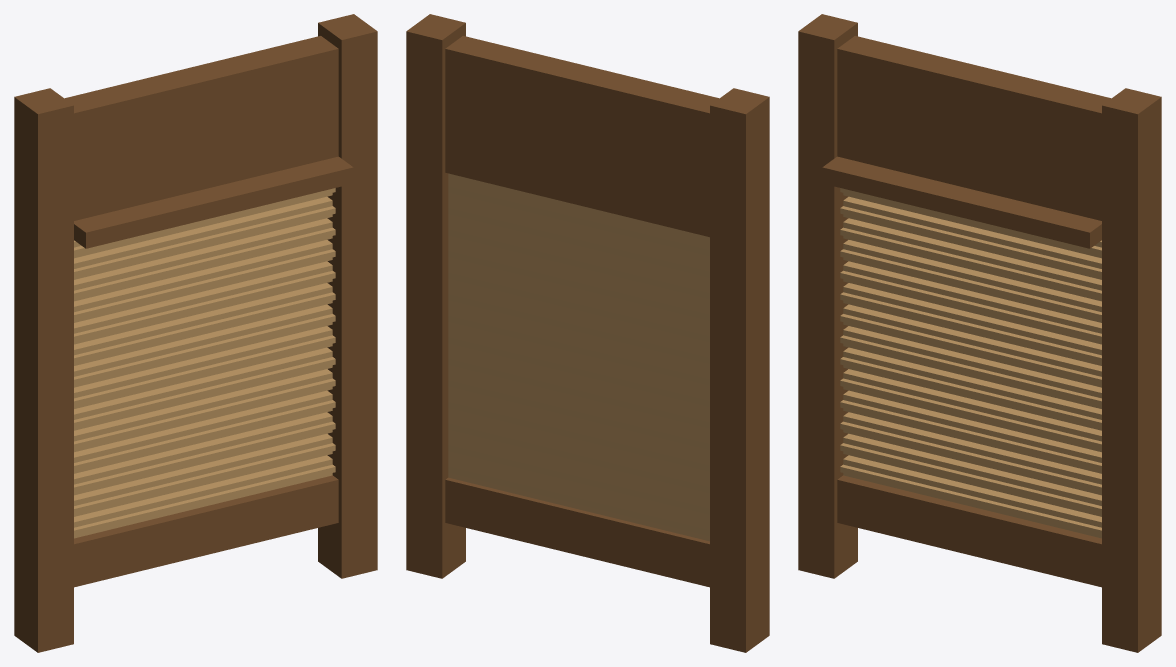
File: washboard.glb
3 renders of one model, left to right at view 1: azimuth 30°, elevation 25°; view 2: azimuth 150°, elevation 25°; view 3: azimuth 330°, elevation 25°, orthographic.
Parts seen in each view (by area): view 1: washboard:compound; view 2: washboard:compound; view 3: washboard:compound.
Part boxes in pixels (box(x1,y1,x2,y2)): washboard:compound: box(14, 14, 377, 652); washboard:compound: box(406, 14, 769, 652); washboard:compound: box(798, 14, 1161, 652).
Size of the model in its own units: 0.264 by 0.4 by 0.048.
